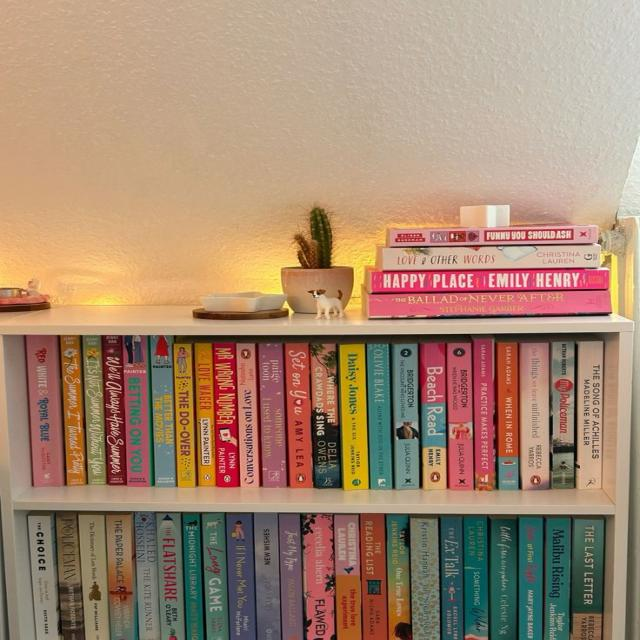book: (366, 290, 611, 318), (369, 269, 609, 294), (377, 244, 601, 270), (26, 336, 64, 487), (387, 225, 597, 247), (520, 343, 549, 490), (339, 344, 368, 489), (78, 514, 110, 639), (575, 341, 602, 489), (392, 343, 419, 489), (150, 336, 176, 487), (302, 513, 333, 639), (123, 336, 149, 486), (259, 343, 286, 487), (311, 344, 338, 487), (447, 342, 473, 490), (571, 519, 603, 639), (60, 335, 85, 485), (29, 514, 59, 639), (213, 343, 239, 487), (284, 343, 310, 487), (550, 341, 575, 489), (227, 513, 256, 639), (421, 343, 446, 489), (367, 344, 392, 489), (410, 517, 439, 639), (56, 513, 84, 639), (360, 514, 388, 639), (107, 515, 135, 639), (83, 336, 106, 485), (103, 336, 126, 485), (202, 513, 229, 639), (158, 513, 184, 639), (543, 518, 570, 639), (496, 342, 518, 489), (474, 338, 495, 490), (237, 343, 259, 487), (255, 513, 280, 639), (490, 519, 516, 639), (336, 515, 361, 639), (463, 517, 488, 639), (135, 512, 159, 639), (518, 518, 543, 639), (174, 343, 194, 487), (280, 514, 303, 639), (387, 515, 410, 639), (195, 343, 214, 486), (441, 517, 462, 639), (183, 514, 203, 639)
